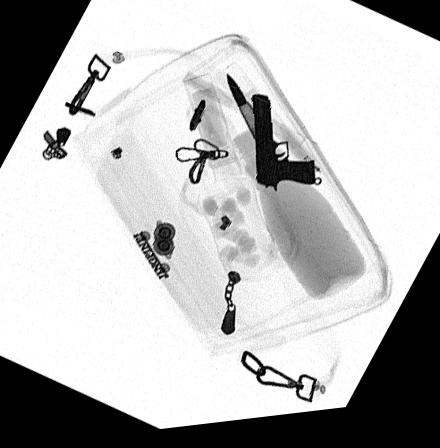Bullet: (226, 77, 271, 150)
Gun: (251, 99, 316, 195)
